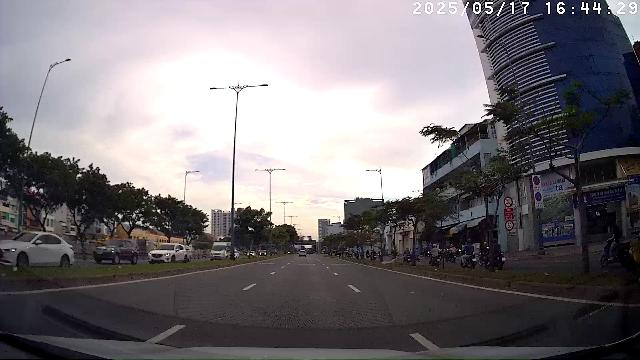127-toc-do-toi-da-50: (505, 220, 514, 231)
